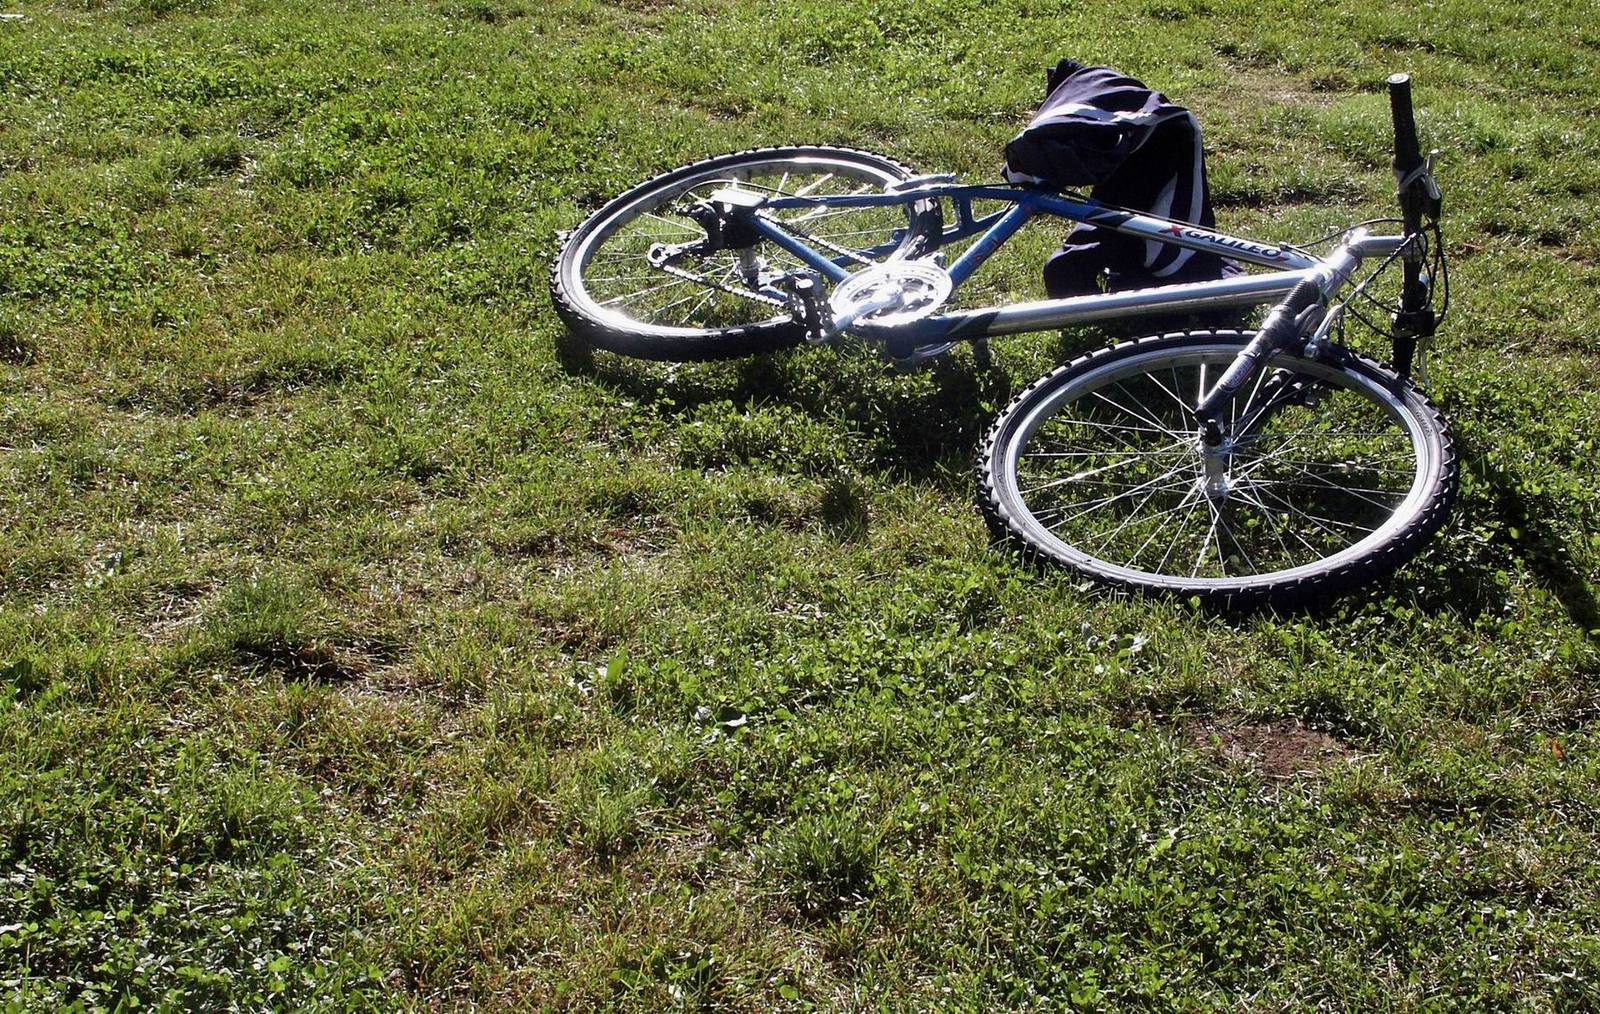Bicycle: (196, 57, 1548, 809)
